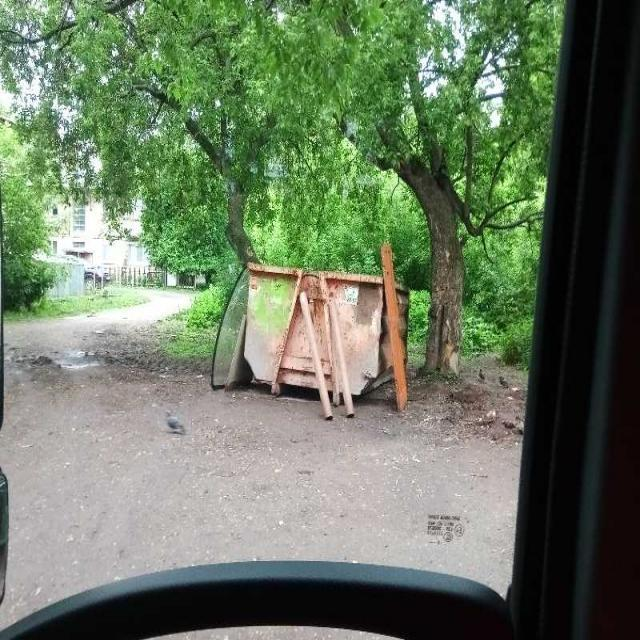Dumpster: (241, 263, 412, 397)
